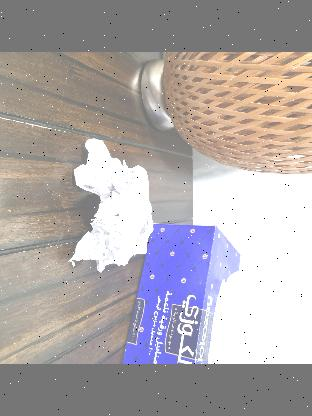Others: (72, 139, 156, 269)
